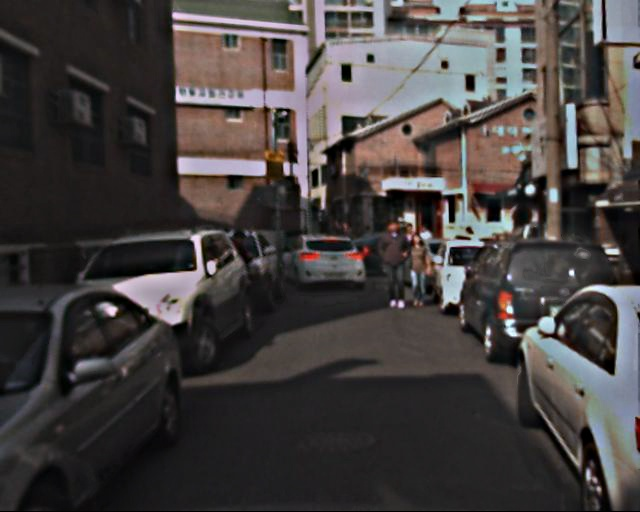person: (377, 222, 413, 309), (226, 229, 260, 313), (402, 234, 433, 309)
